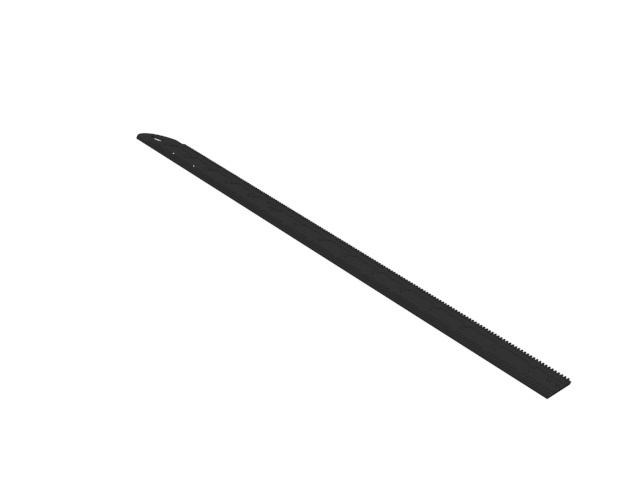ruler: (137, 129, 576, 400)
